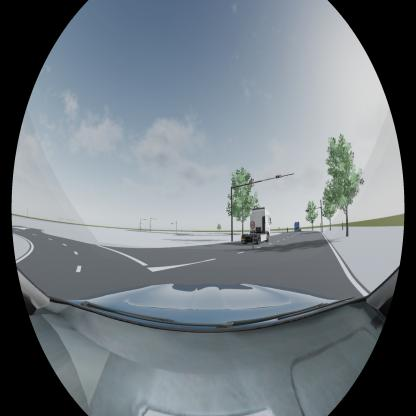Green Light: (305, 209, 310, 212)
Red Light: (276, 174, 282, 178), (249, 180, 254, 184)
Speed Limit 60: (251, 221, 255, 228)
